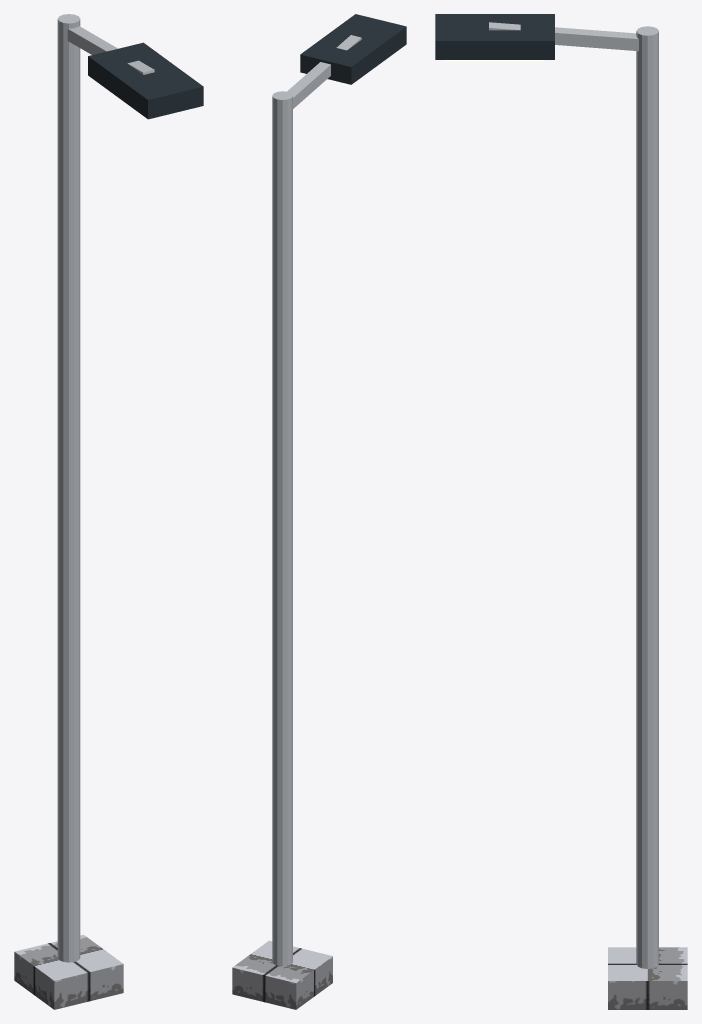
The model's file is lamp.glb.
3 views of the same model, side by side, from view 1: azimuth 30°, elevation 25°; view 2: azimuth 150°, elevation 25°; view 3: azimuth 270°, elevation 25° (orthographic). The views are drawn at different scales.
Visible parts, largest first — view 1: harbor_lamp; view 2: harbor_lamp; view 3: harbor_lamp.
Part boxes in pixels (left/top/right/bottom): harbor_lamp: left=14, top=14, right=203, bottom=1009; harbor_lamp: left=232, top=14, right=406, bottom=1009; harbor_lamp: left=435, top=14, right=687, bottom=1009.
Size of the model in its own units: 0.6 by 8.05 by 1.9.
4 materials, 1 textured.
